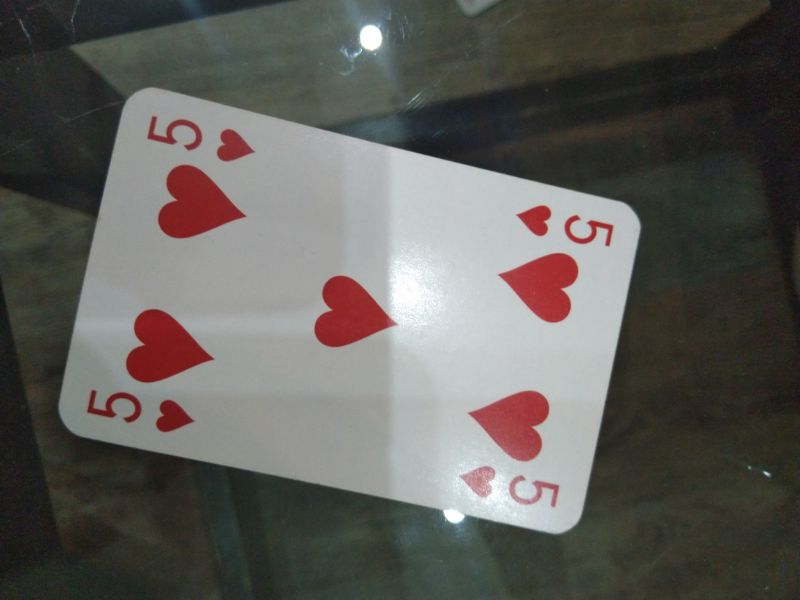5h: (143, 109, 259, 166), (83, 384, 199, 435), (458, 461, 562, 513), (516, 200, 617, 253)
